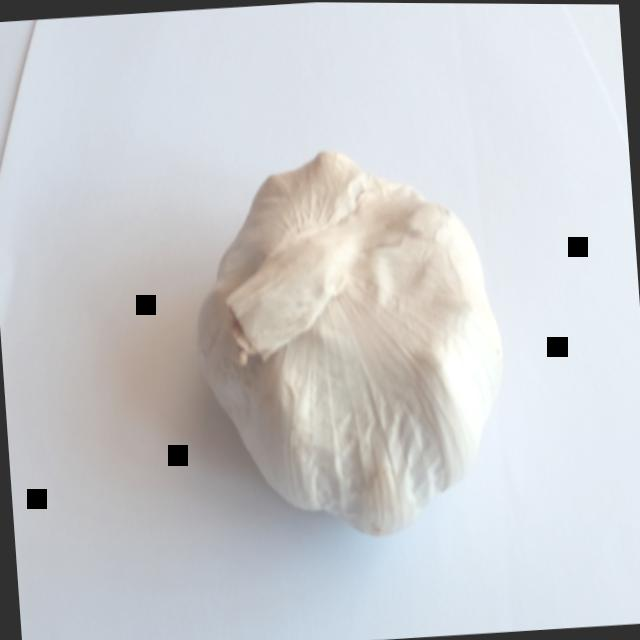Garlic: (168, 117, 532, 573)
